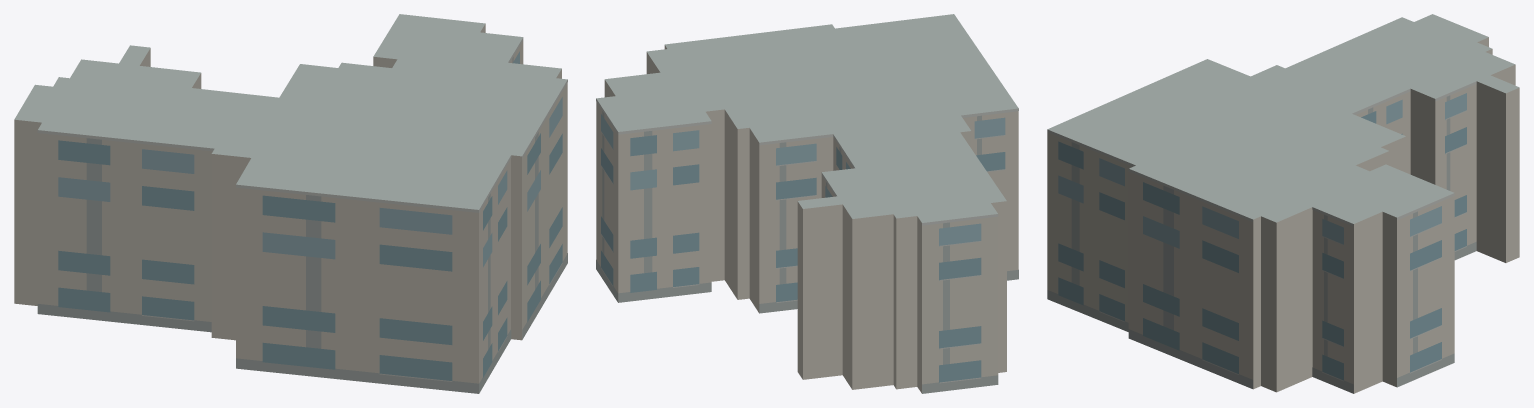
File: residential-3d953bd1-dc7d-4153-8ba1-d01aa84aaa8c.glb
The picture shows the model from 3 angles, left to right: view 1: azimuth 30°, elevation 25°; view 2: azimuth 150°, elevation 25°; view 3: azimuth 270°, elevation 25°; orthographic projection. The views are drawn at different scales.
Parts seen in each view (by area): view 1: residential-3d953bd1-dc7d-4153-8ba1-d01aa84aaa8c.tmp; view 2: residential-3d953bd1-dc7d-4153-8ba1-d01aa84aaa8c.tmp; view 3: residential-3d953bd1-dc7d-4153-8ba1-d01aa84aaa8c.tmp.
Part boxes in pixels (x1=…): residential-3d953bd1-dc7d-4153-8ba1-d01aa84aaa8c.tmp: x1=14, y1=14, x2=567, y2=393; residential-3d953bd1-dc7d-4153-8ba1-d01aa84aaa8c.tmp: x1=596, y1=14, x2=1018, y2=393; residential-3d953bd1-dc7d-4153-8ba1-d01aa84aaa8c.tmp: x1=1047, y1=14, x2=1519, y2=393.
Bounding box in the file's own units: 40.47 × 15.25 × 38.45.
